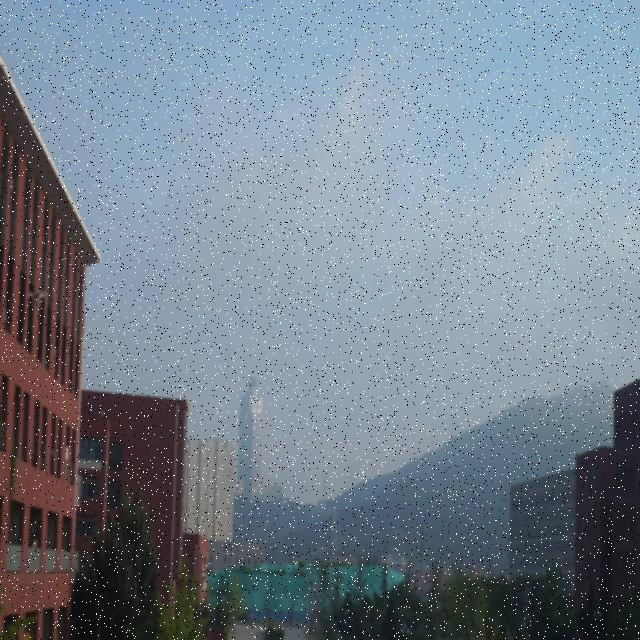UAV: (27, 291, 48, 306)
